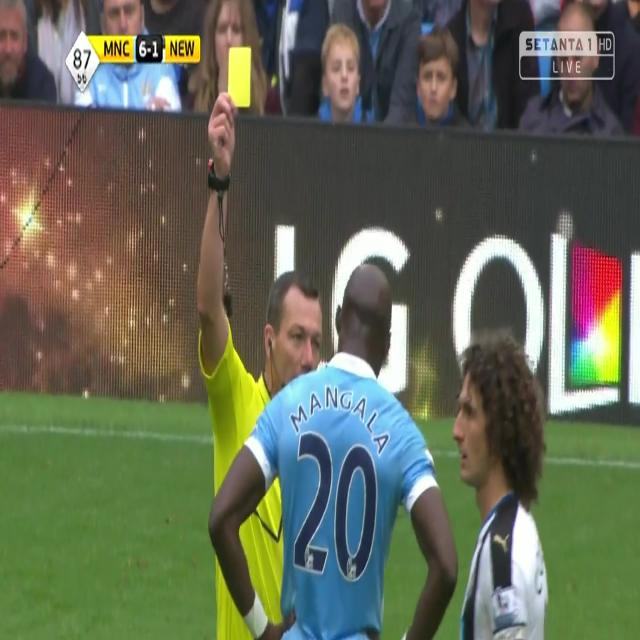Player: (207, 264, 457, 640), (452, 329, 550, 636)
Referee: (192, 85, 323, 640)
